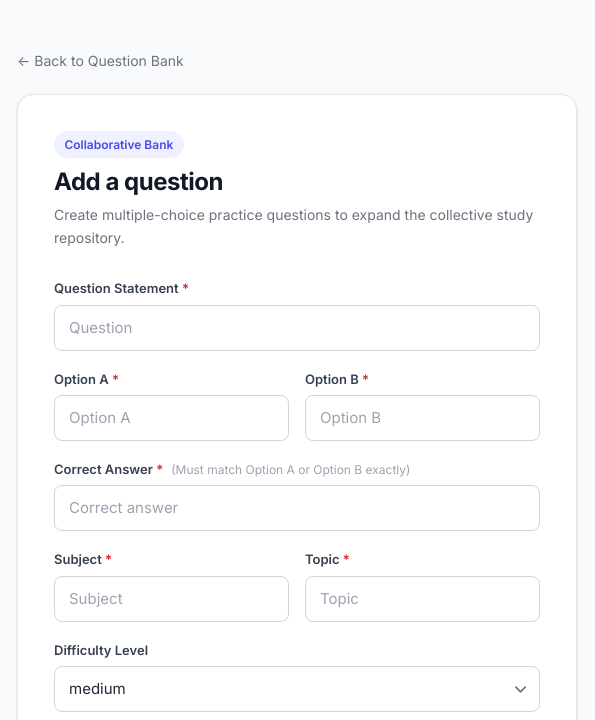
Test: AddQuestion › shows the server error when submission fails
The width and height of the screenshot is (595, 720).
In the field with placeholder "Question": (297, 328) [54,304,540,350], type "Question?"
In the field with placeholder "Option A": (172, 418) [54,395,289,441], type "A"
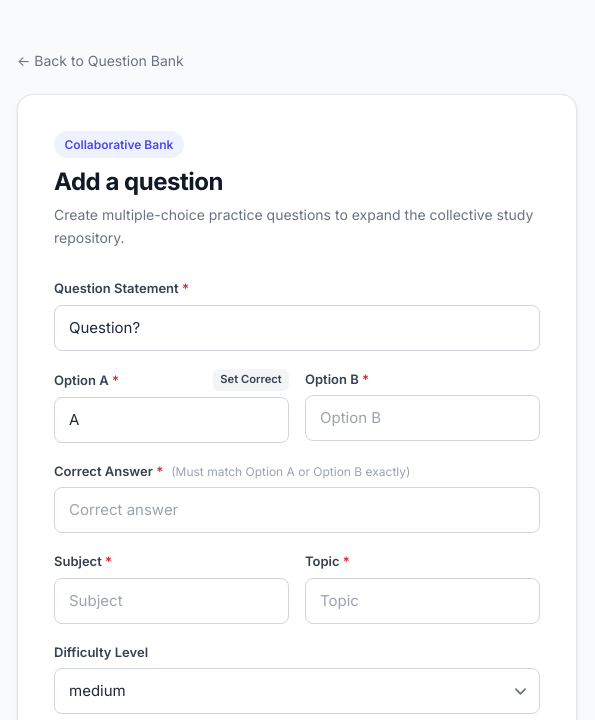
In the field with placeholder "Option B": (422, 418) [305,395,540,441], type "B"
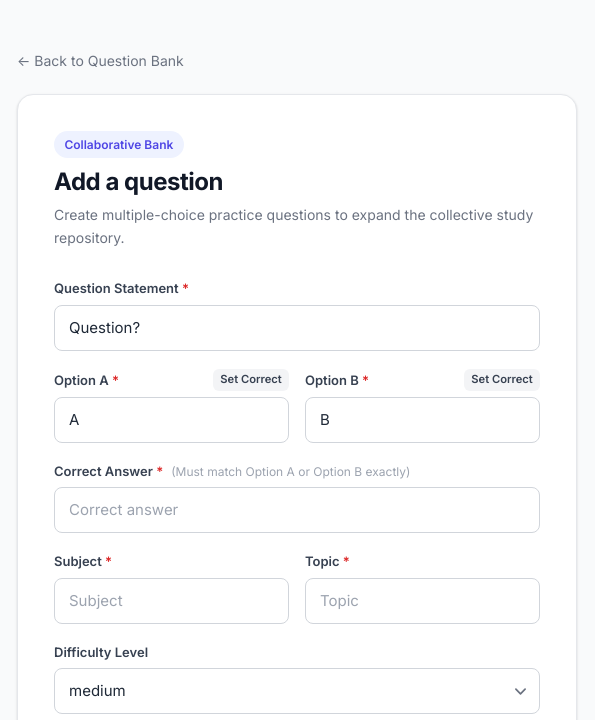
In the field with placeholder "Correct Answer": (297, 510) [54,487,540,533], type "A"
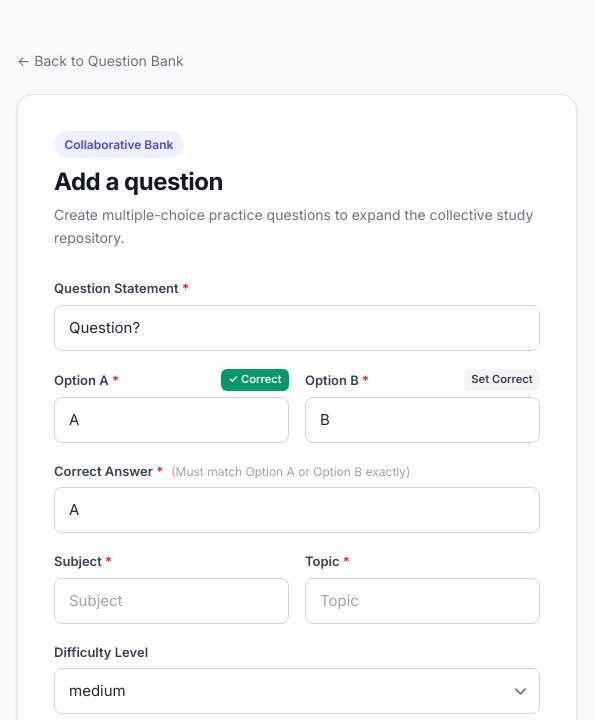
In the field with placeholder "Subject": (172, 601) [54,578,289,624], type "Maths"
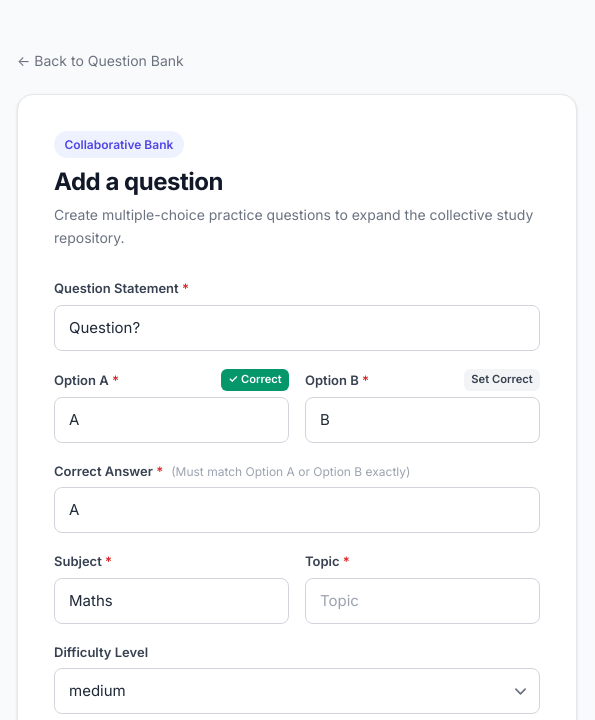
In the field with placeholder "Topic": (422, 601) [305,578,540,624], type "Algebra"
(page scrolled)
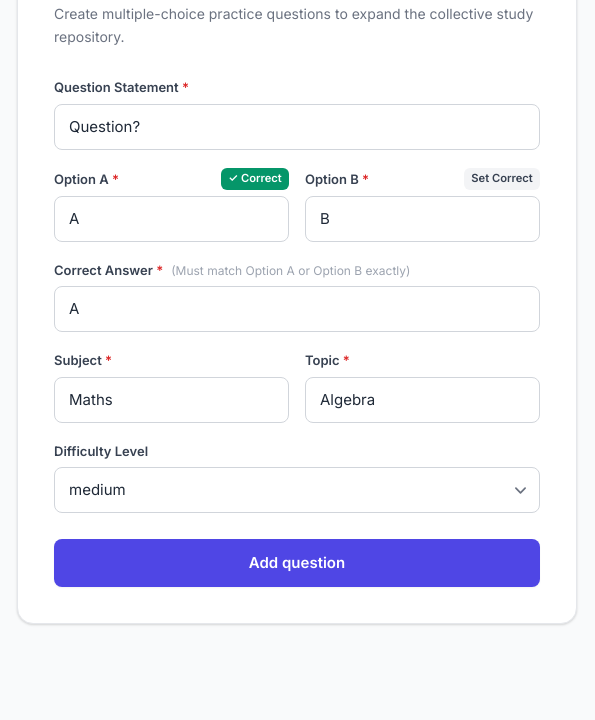
Click the button "Add question": (297, 563) [54,539,540,587]
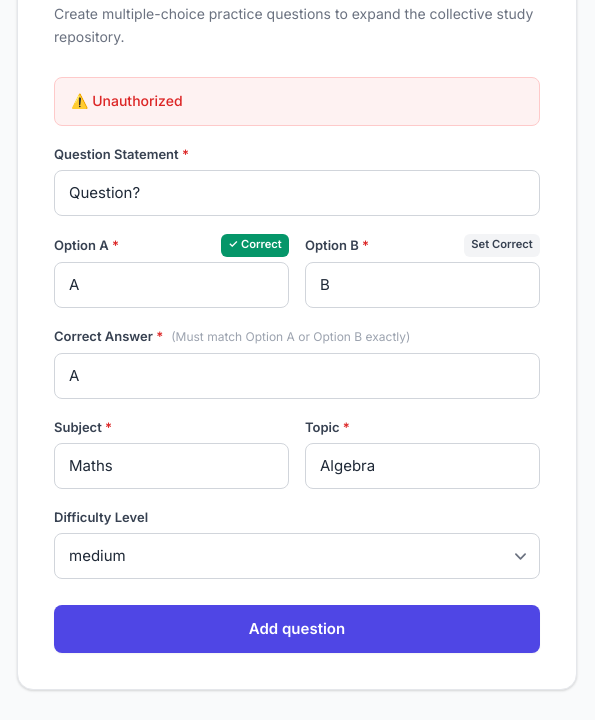
Result: the message shows "Unauthorized" at [92,92,182,109]
